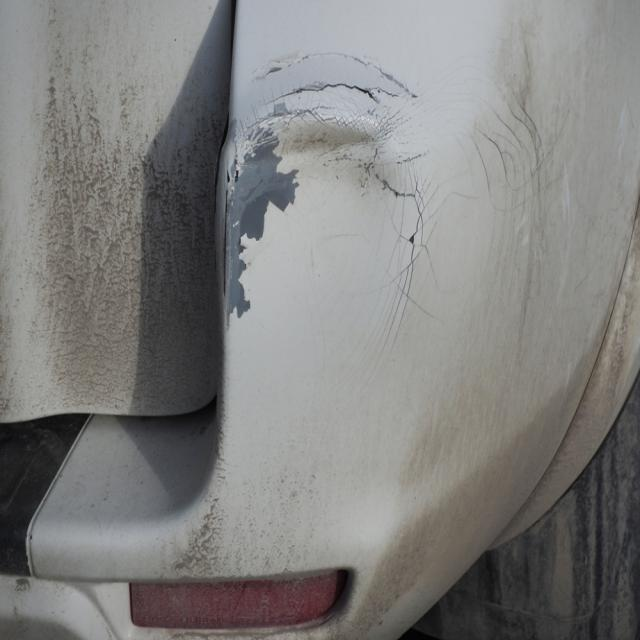dent: (230, 115, 412, 405)
